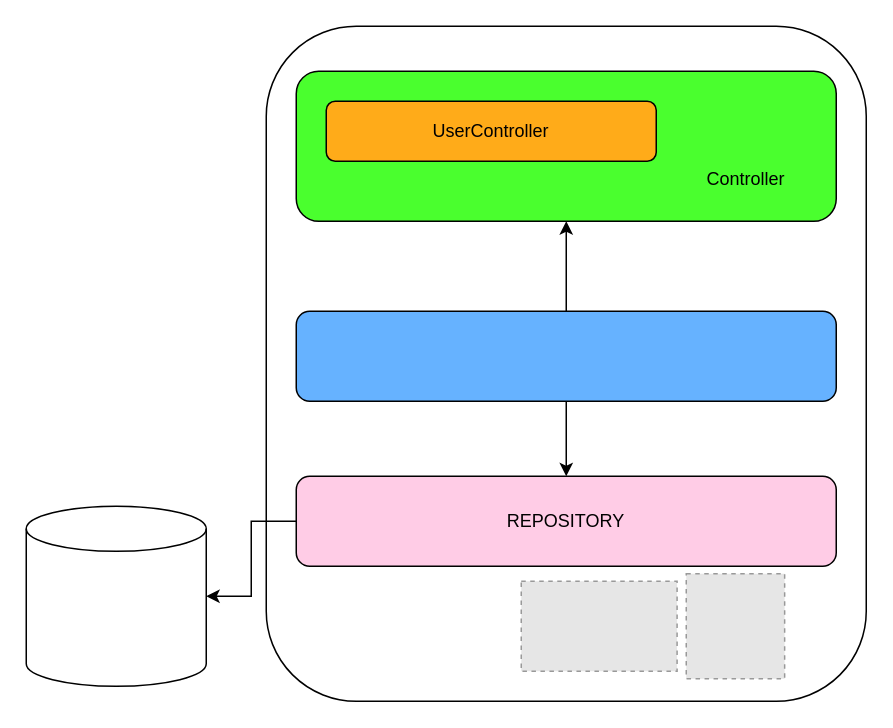
The diagram is 893 pixels wide and 728 high, and some of its shapes have lost their labels. Grey dashed boxes stand in for pictures. The shapes that lost their labels are listed below. From the top down, each one's centre as x and y in pixels, then its label:
the point at 565,355: SERVICE
the point at 115,595: H2 DATABASE
